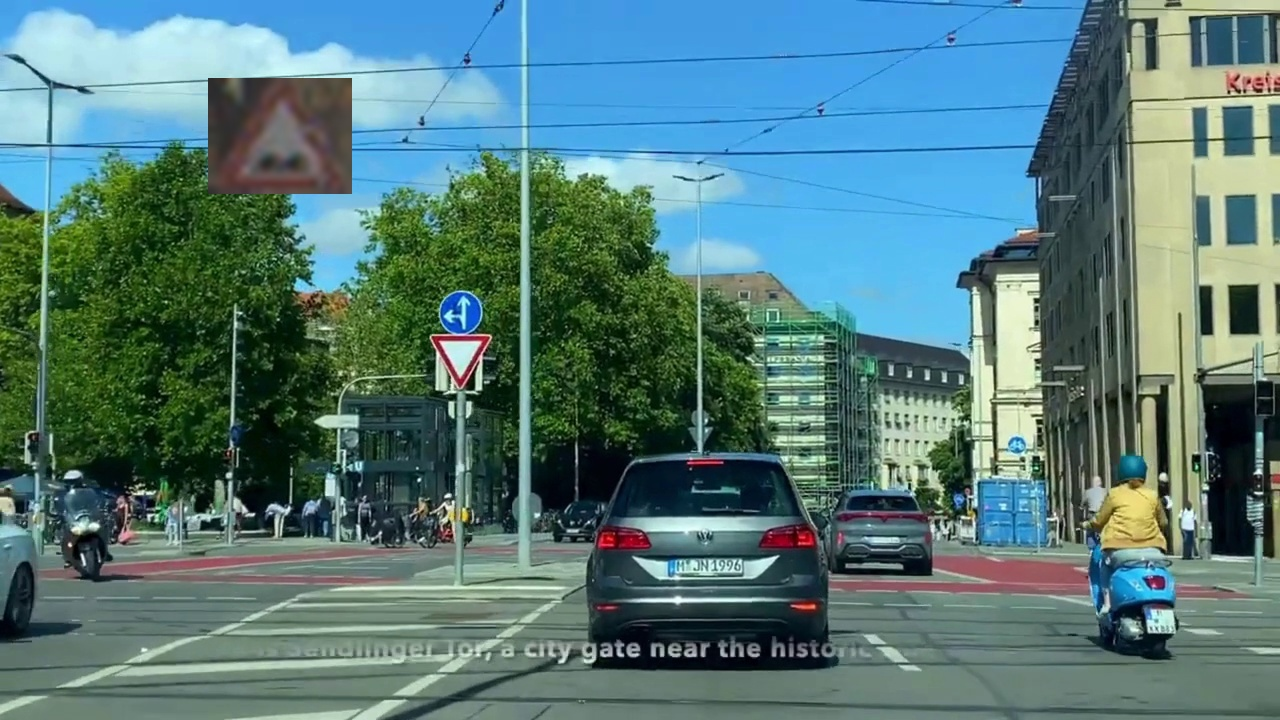Bumpy road: (208, 78, 352, 194)
